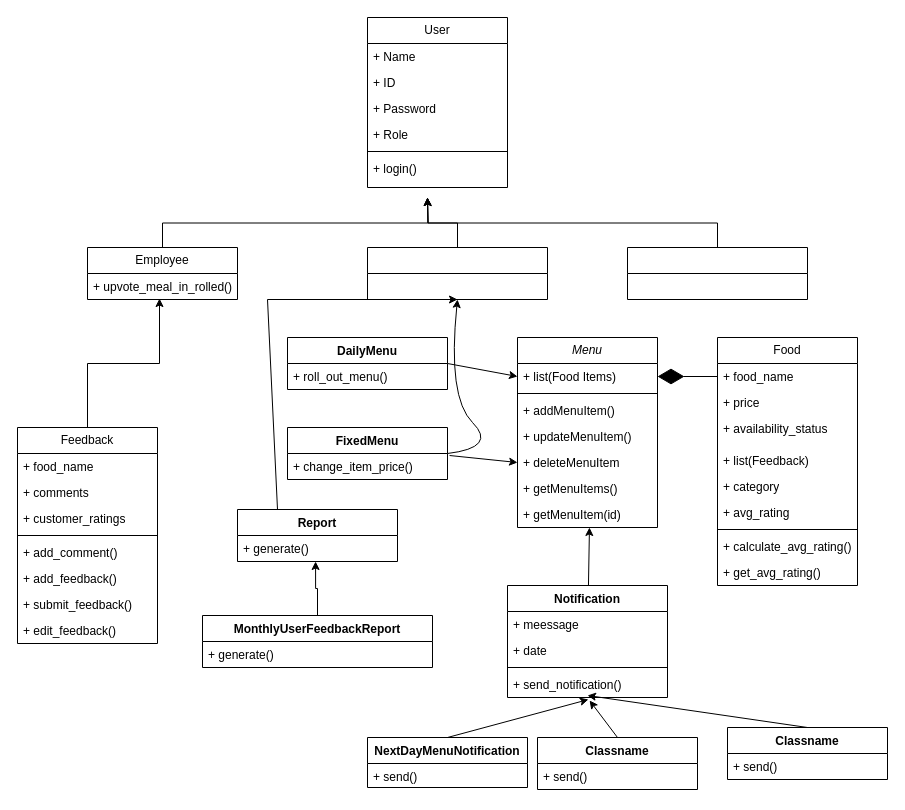
This 905x810 diagram has some shape labels left out. Each missing label, with the centre of its shape:
Admin: [717,273]
Chef: [457,273]
